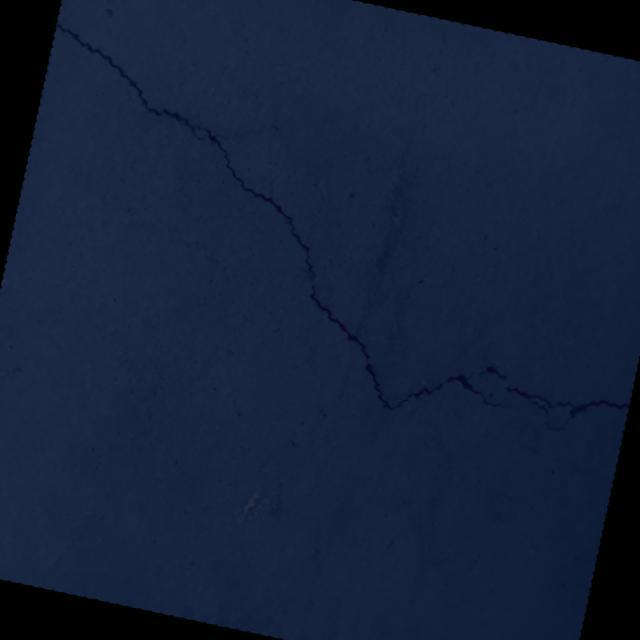crack: (0, 23, 640, 459)
